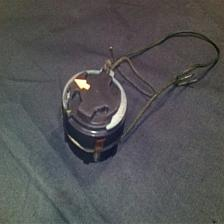M14: (62, 70, 127, 163)
